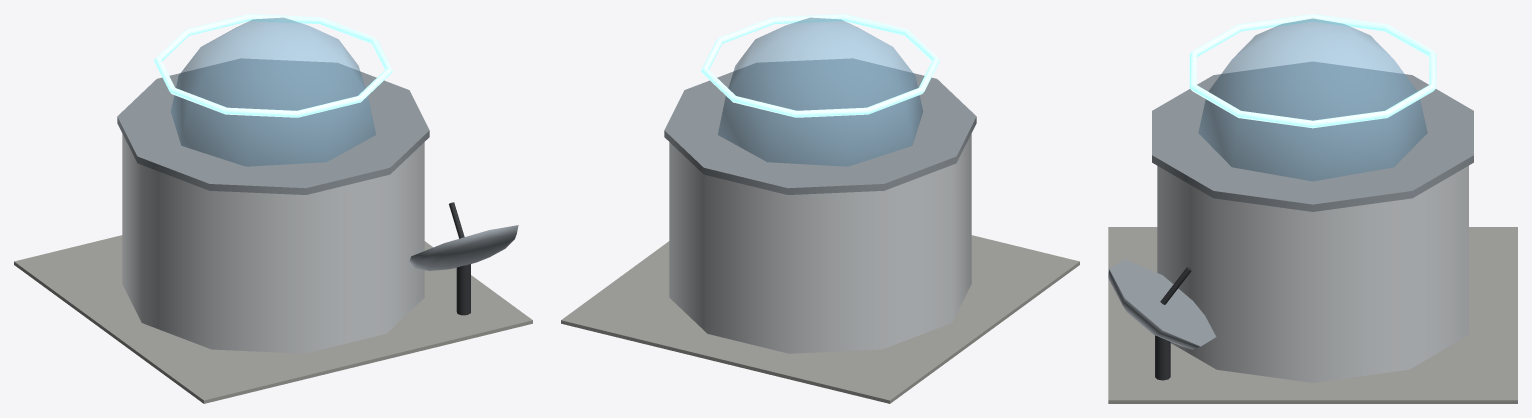
File: bld_special_research_center_a08_lod1.glb
The picture shows the model from 3 angles, left to right: view 1: azimuth 30°, elevation 25°; view 2: azimuth 150°, elevation 25°; view 3: azimuth 270°, elevation 25°; orthographic projection. The views are drawn at different scales.
Parts seen in each view (by area): view 1: body, antenna; view 2: body; view 3: body, antenna.
Part boxes in pixels (x1,y1,x2,y2): body: [14, 14, 532, 403]; antenna: [409, 202, 518, 315]; body: [561, 14, 1079, 403]; body: [1108, 14, 1517, 403]; antenna: [1108, 259, 1216, 380].
Bounding box in the file's own units: 15.4 × 11.65 × 15.
